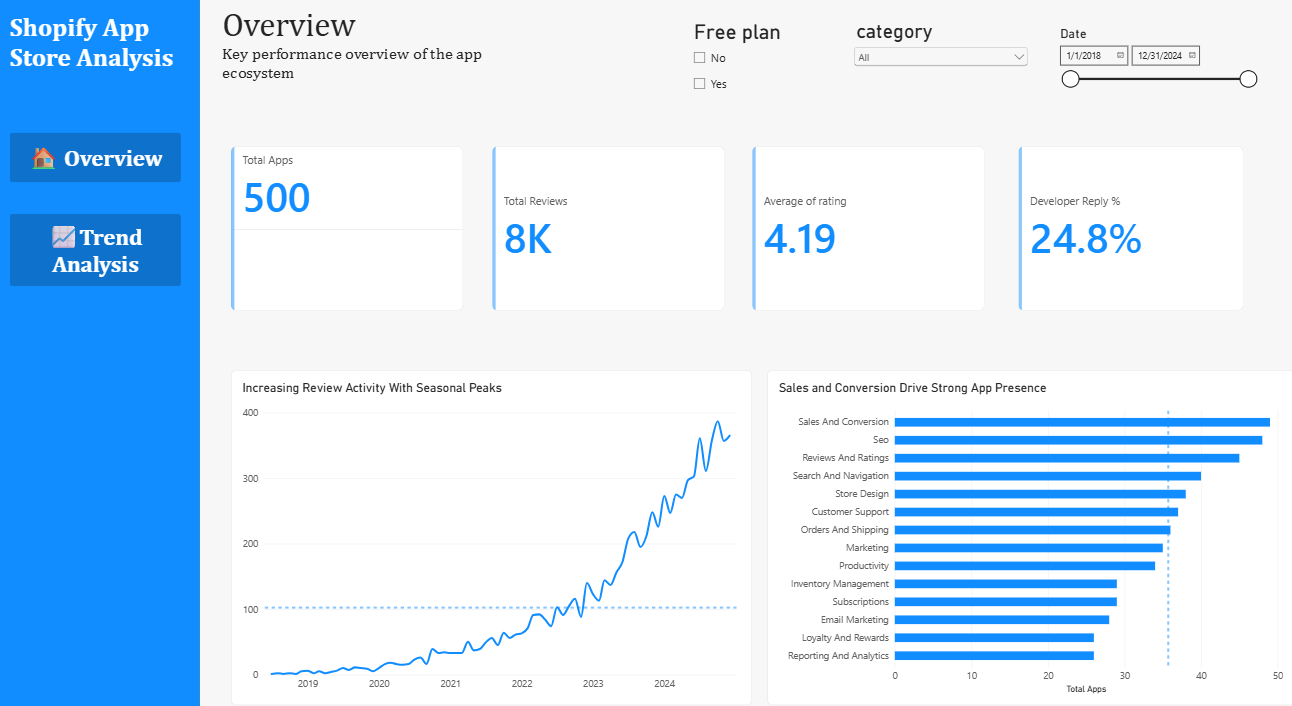

The page's visual inventory and layout, read from the dashboard file:
{"tool":"powerbi","page":{"name":"Overview","canvas":[1920,1080],"ordinal":0},"visuals":[{"type":"cardVisual","fields":{"Data":["apps.Total Apps"]},"box":[353.4,230.1,342.3,242.9],"z":0},{"type":"cardVisual","fields":{"Data":["reviews.Total Reviews"]},"box":[738,230.1,342.3,242.9],"z":1000},{"type":"cardVisual","fields":{"Data":["Avg(reviews.rating)"]},"box":[1120.9,230.1,342.3,242.9],"z":2000},{"type":"cardVisual","fields":{"Data":["reviews.Developer Reply %"]},"box":[1512.9,230.1,331.3,242.9],"z":3000},{"type":"slicer","fields":{"Values":["apps.category_name"]},"box":[1266.3,44.2,265,103.1],"z":4000},{"type":"slicer","fields":{"Values":["dim_date.Date"]},"box":[1566.3,53.4,301.5,141.1],"z":5000},{"type":"slicer","fields":{"Values":["apps.has_free_plan"]},"box":[1027,44.2,279.8,116],"z":6000},{"type":"lineChart","title":"Increasing Review Activity With Seasonal Peaks","fields":{"Category":["dim_date.Date.Variation.Date Hierarchy.Year","dim_date.Date.Variation.Date Hierarchy.Month"],"Y":["reviews.Total Reviews"]},"box":[353.4,559.5,767.5,493.3],"z":7000},{"type":"clusteredBarChart","title":"Sales and Conversion Drive Strong App Presence","fields":{"Category":["apps.category_name"],"Y":["apps.Total Apps"]},"box":[1143,559.5,776.7,493.3],"z":8000},{"type":"shape","box":[0,0,307.4,1080],"z":9000},{"type":"textbox","box":[27.6,33.1,252.1,162],"z":10000},{"type":"textbox","box":[340.5,22.1,456.4,163.8],"z":11000},{"type":"actionButton","box":[27.6,209.8,252.1,73.6],"z":12000},{"type":"actionButton","box":[27.6,329.4,252.1,106.7],"z":13000}]}

Visuals, with their boxes on the page's 1920x1080 design canvas (x1, y1, x2, y2). These are canvas units, not pixel positions in the 1292x706 screenshot, which may show the page scaled, cropped or inside an application window:
cardVisual - apps.Total Apps: pyautogui.locateOnScreen(353, 230, 696, 473)
cardVisual - reviews.Total Reviews: pyautogui.locateOnScreen(738, 230, 1080, 473)
cardVisual - Avg(reviews.rating): pyautogui.locateOnScreen(1121, 230, 1463, 473)
cardVisual - reviews.Developer Reply %: pyautogui.locateOnScreen(1513, 230, 1844, 473)
slicer - apps.category_name: pyautogui.locateOnScreen(1266, 44, 1531, 147)
slicer - dim_date.Date: pyautogui.locateOnScreen(1566, 53, 1868, 194)
slicer - apps.has_free_plan: pyautogui.locateOnScreen(1027, 44, 1307, 160)
"Increasing Review Activity With Seasonal Peaks" lineChart: pyautogui.locateOnScreen(353, 560, 1121, 1053)
"Sales and Conversion Drive Strong App Presence" clusteredBarChart: pyautogui.locateOnScreen(1143, 560, 1920, 1053)
shape: pyautogui.locateOnScreen(0, 0, 307, 1080)
textbox: pyautogui.locateOnScreen(28, 33, 280, 195)
textbox: pyautogui.locateOnScreen(340, 22, 797, 186)
actionButton: pyautogui.locateOnScreen(28, 210, 280, 283)
actionButton: pyautogui.locateOnScreen(28, 329, 280, 436)
